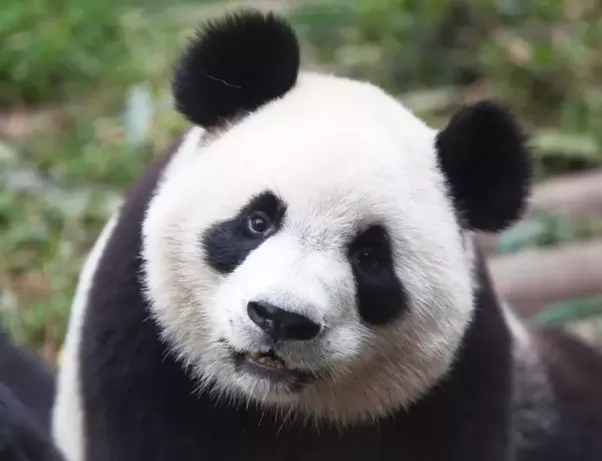panda: (83, 10, 520, 461)
